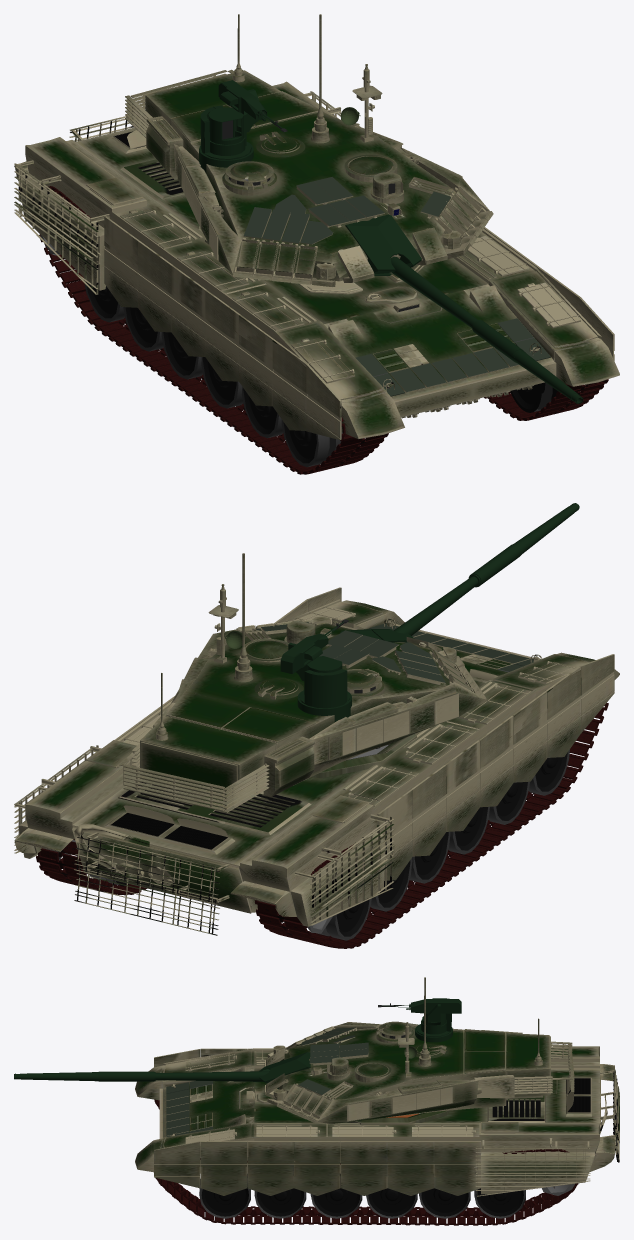
3 views of the same model, one above another, from view 1: azimuth 30°, elevation 25°; view 2: azimuth 150°, elevation 25°; view 3: azimuth 270°, elevation 25° (orthographic). The views are drawn at different scales.
Visible parts, largest first — view 1: Hull_19, Turret.001_13, Track R_14, Gun_9, Turret_11, Wheel 10_6, Track L_17, MG_10, Wheel 10.003_3, Wheel 10.002_4, Wheel 10.001_5, Wheel 10.004_2 (+1 smaller); view 2: Hull_19, Turret.001_13, Track R_14, Gun_9, Turret_11, Track L_17, Wheel 10.005_1, MG_10, Wheel 10.003_3, Wheel 10.002_4, Wheel 10.001_5, Wheel 10_6 (+1 smaller); view 3: Hull_19, Turret.001_13, Track L_17, Gun_9, Wheel 10_6, Wheel 10.001_5, Wheel 10.003_3, Wheel 10.004_2, Wheel 10.002_4, Wheel 10.005_1, Turret_11, MG_10.
Boxes of the visible parts, x1,y1,x2,y2 form: Hull_19: (14, 81, 619, 439); Turret.001_13: (125, 14, 493, 286); Track R_14: (39, 186, 388, 474); Gun_9: (345, 214, 583, 404); Turret_11: (199, 89, 259, 172); Wheel 10_6: (281, 382, 557, 467); Track L_17: (484, 379, 608, 420); MG_10: (218, 80, 287, 132); Wheel 10.003_3: (201, 357, 243, 408); Wheel 10.002_4: (161, 332, 202, 379); Wheel 10.001_5: (241, 387, 283, 438); Wheel 10.004_2: (123, 307, 163, 351); Hull_19: (14, 587, 619, 935); Turret.001_13: (119, 553, 487, 812); Track R_14: (255, 703, 608, 948); Gun_9: (340, 503, 579, 642); Turret_11: (288, 643, 351, 722); Track L_17: (36, 839, 146, 895); Wheel 10.005_1: (89, 874, 371, 940); MG_10: (280, 619, 348, 673); Wheel 10.003_3: (448, 806, 489, 854); Wheel 10.002_4: (409, 831, 450, 883); Wheel 10.001_5: (488, 781, 529, 824); Wheel 10_6: (528, 749, 569, 795); Hull_19: (135, 1043, 619, 1196); Turret.001_13: (264, 977, 574, 1124); Track L_17: (155, 1149, 578, 1225); Gun_9: (14, 1052, 310, 1089); Wheel 10_6: (199, 1174, 250, 1218); Wheel 10.001_5: (254, 1188, 306, 1218); Wheel 10.003_3: (310, 1174, 362, 1218); Wheel 10.004_2: (419, 1188, 470, 1218); Wheel 10.002_4: (366, 1188, 417, 1218); Wheel 10.005_1: (474, 1188, 525, 1218); Turret_11: (415, 1004, 452, 1042); MG_10: (378, 998, 461, 1013).
Size of the model in its own units: 4.18 by 4.15 by 10.56.
Materials: 26 (4 with a texture image).
